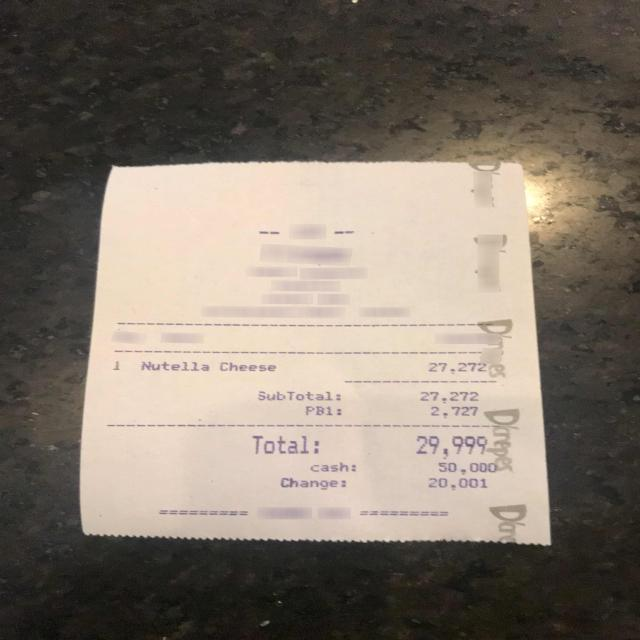kertas: (79, 157, 555, 544)
